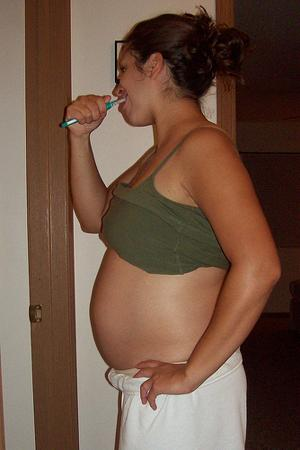person: (65, 8, 281, 450)
